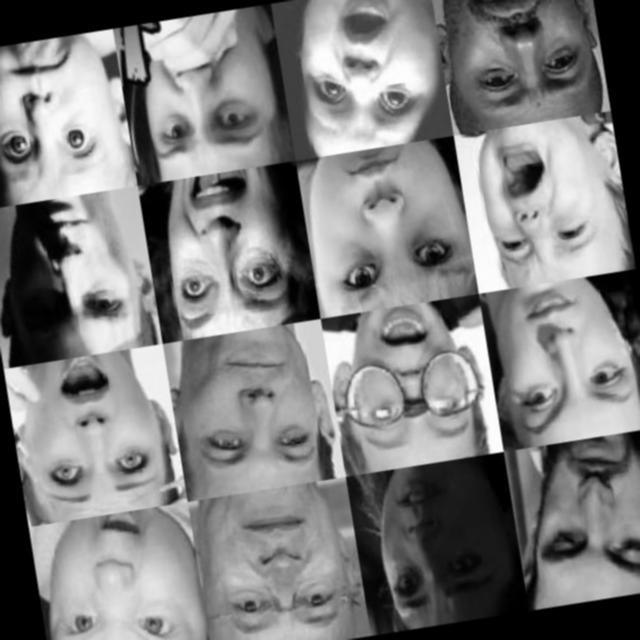angry: (309, 142, 468, 316), (29, 508, 201, 640)
fear: (328, 301, 491, 470), (148, 168, 304, 340), (19, 349, 167, 520), (127, 7, 275, 176), (281, 0, 428, 156), (0, 32, 114, 197)
happy: (177, 337, 326, 492)
neutral: (494, 279, 640, 446), (0, 196, 140, 356), (208, 491, 351, 640)
sad: (472, 123, 615, 282), (370, 466, 507, 624), (515, 434, 640, 601), (447, 0, 595, 128)
